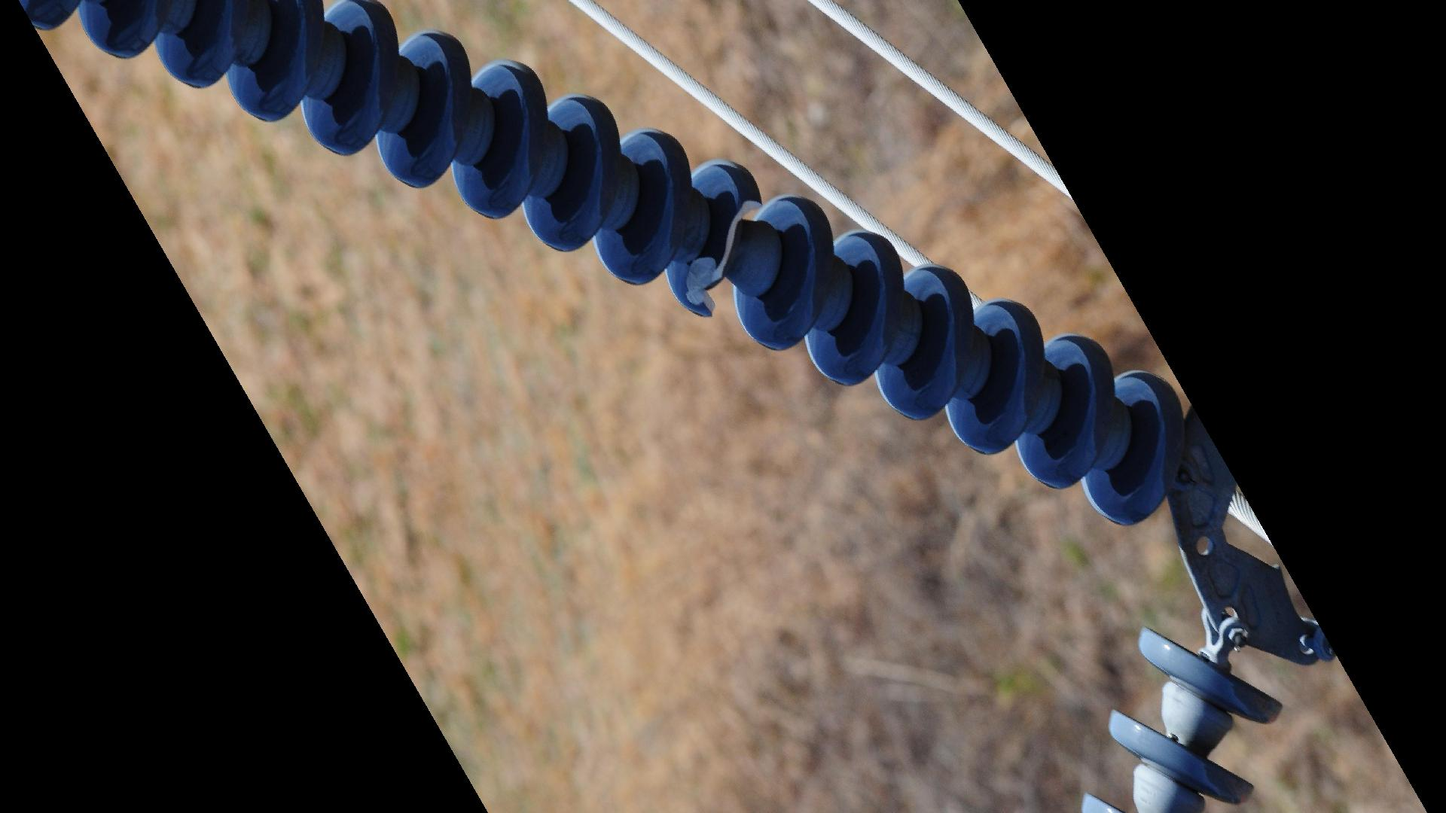insulator: (26, 1, 1189, 531), (1073, 621, 1286, 813)
insulator_breakage: (673, 184, 776, 321)
